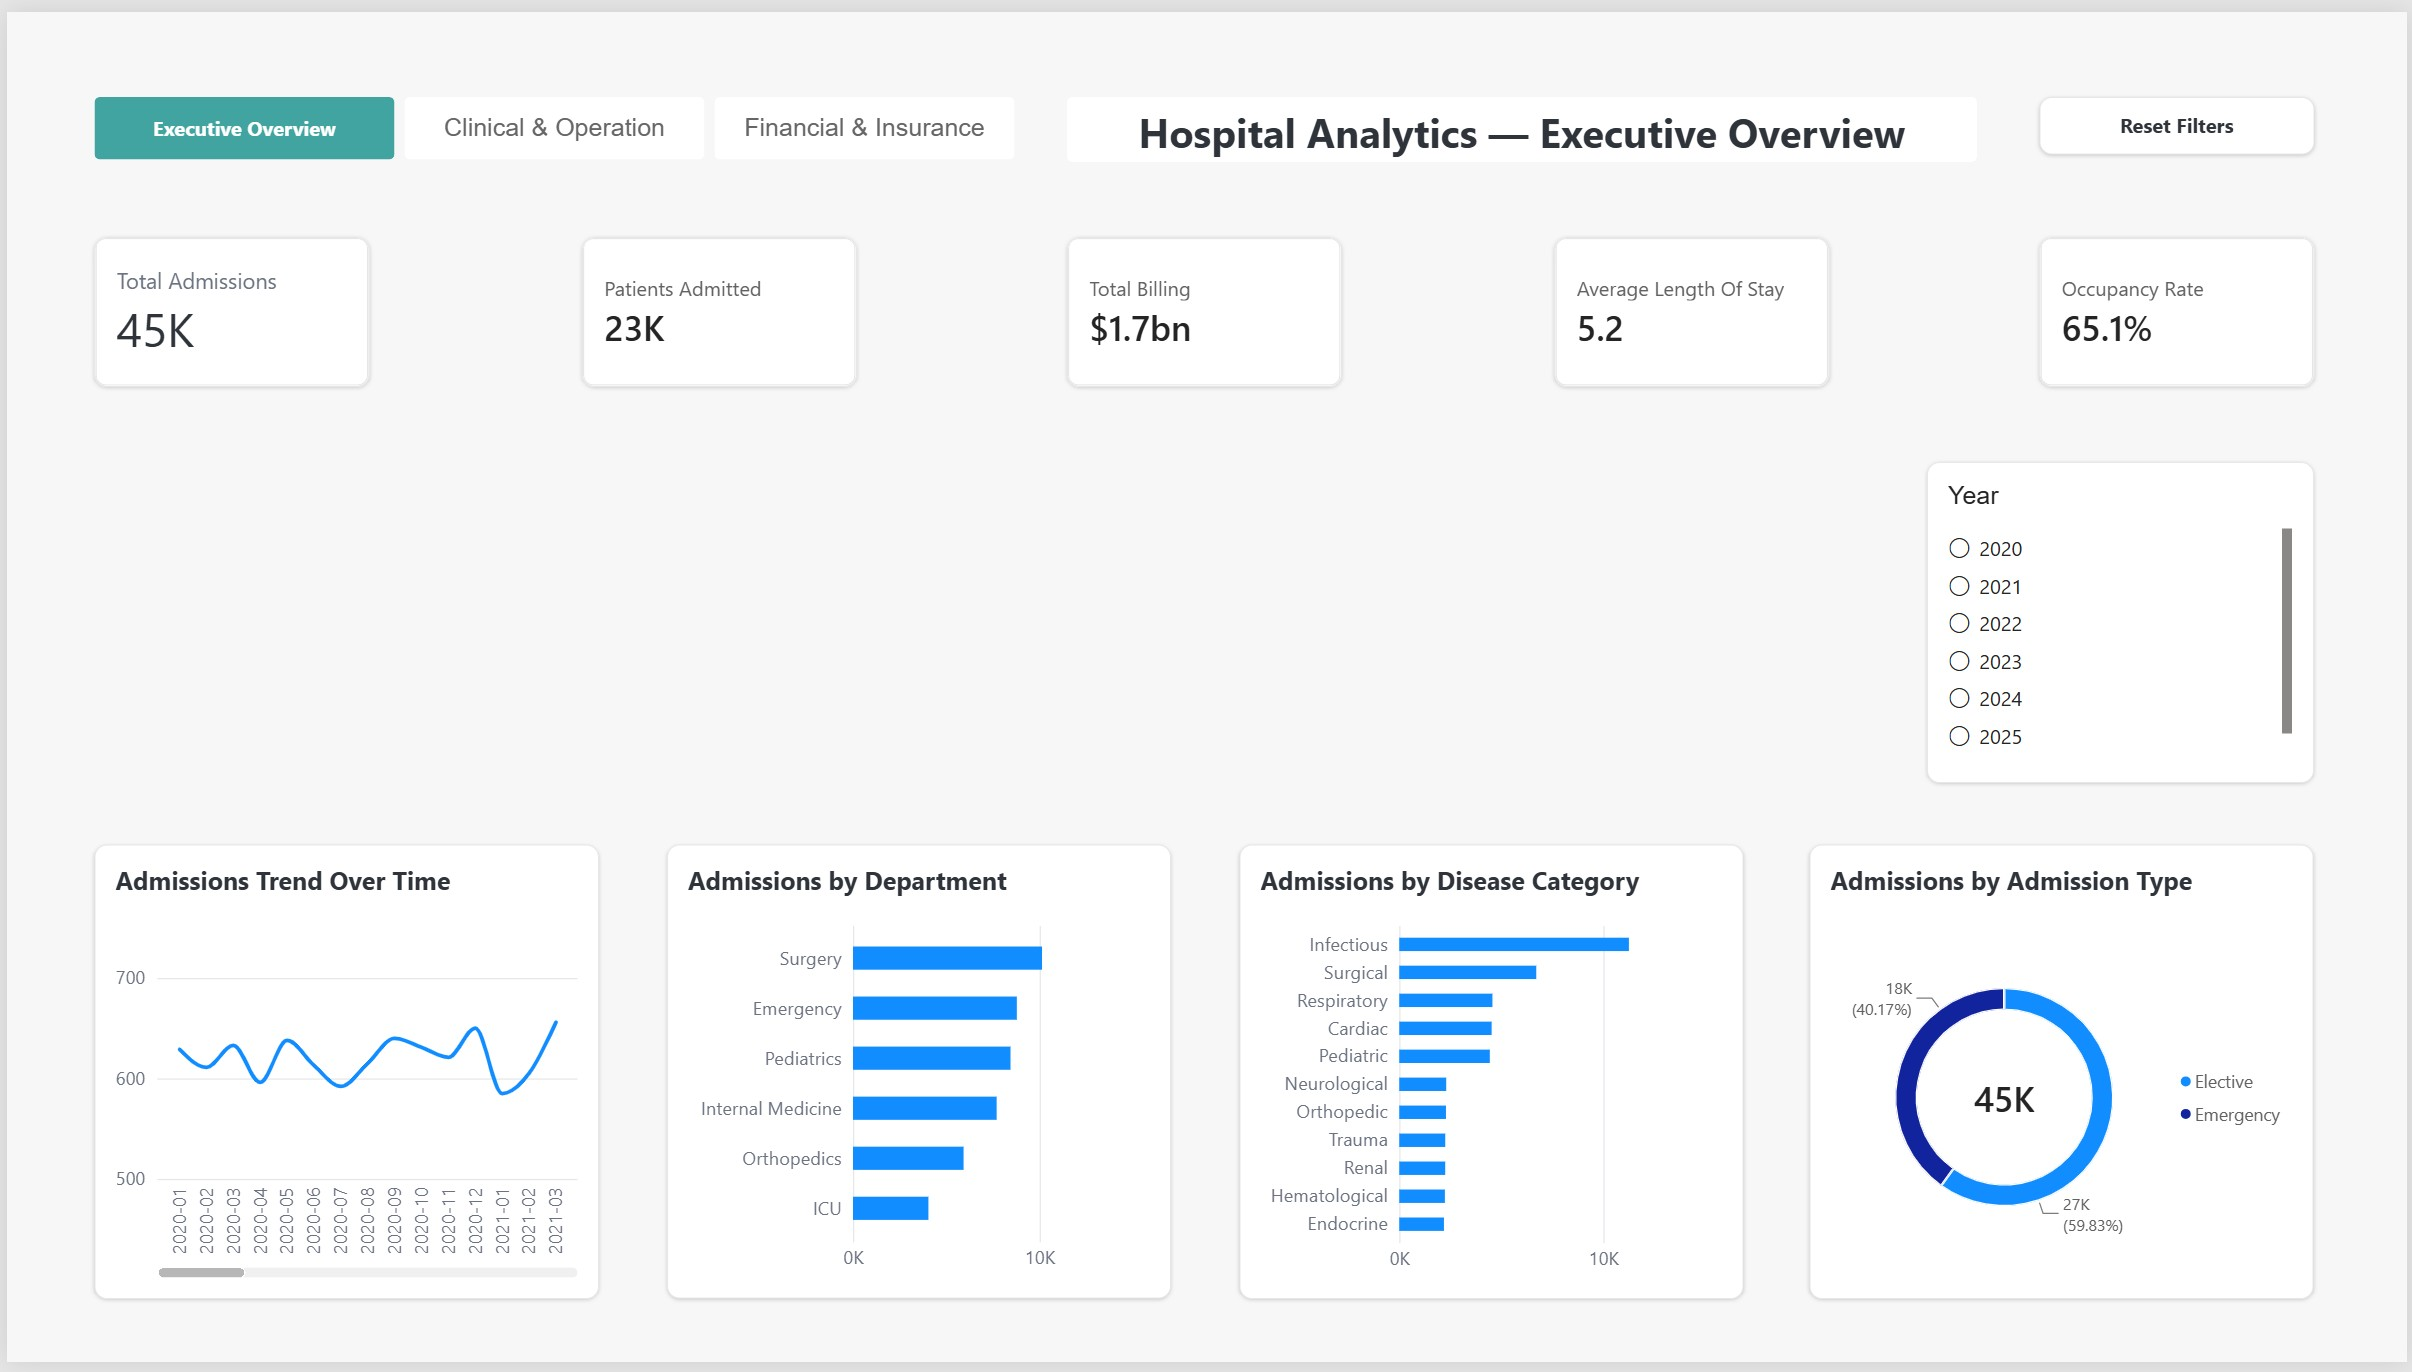

The dashboard page shown, as its layout file describes it:
{"tool":"powerbi","page":{"name":"Executive Overview","canvas":[1920,1080],"ordinal":0},"visuals":[{"type":"actionButton","box":[848,68,728,52],"z":0},{"type":"cardVisual","title":"Total Admission","fields":{"Data":["_Measures.Total_admission"]},"box":[70.6,180.9,220,120],"z":1000},{"type":"cardVisual","fields":{"Data":["_Measures.Unique_Patients"]},"box":[459.4,180.9,220,120],"z":2000},{"type":"cardVisual","fields":{"Data":["_Measures.Total_Billing"]},"box":[848.3,180.9,220,120],"z":3000},{"type":"cardVisual","fields":{"Data":["_Measures.Average_Length_Of_Stay"]},"box":[1237.1,180.9,220,120],"z":4000},{"type":"cardVisual","fields":{"Data":["_Measures.Occupancy_Rate"]},"box":[1626,180.9,220,120],"z":5000},{"type":"lineChart","title":"Admissions Trend Over Time","fields":{"Y":["_Measures.Total Admission"],"Category":["Date_Table.Year_Month"]},"box":[70.6,666,403.6,363.7],"z":6000},{"type":"clusteredBarChart","title":"Admissions by Department","fields":{"Y":["_Measures.Total Admission"],"Category":["Department.department_name"]},"box":[528.2,666,403,363],"z":7000},{"type":"clusteredBarChart","title":"Admissions by Disease Category","fields":{"Y":["_Measures.Total Admission"],"Category":["disease.disease_category"]},"box":[985.2,666,403,363.7],"z":8000},{"type":"donutChart","title":"Admissions by Admission Type","fields":{"Category":["admission.admission_type"],"Y":["_Measures.Total Admission"]},"box":[1442.3,666,403,363.7],"z":9000},{"type":"listSlicer","fields":{"Values":["Date_Table.Year"]},"box":[1536,360,309.5,257],"z":10000},{"type":"pageNavigator","box":[70.6,68.8,738.3,50.7],"z":11000},{"type":"actionButton","title":"Reset Filter","box":[1626,68,220,46],"z":12000}]}

Visuals, with their boxes in screenshot pixels (x1, y1, x2, y2), scaled from the page's 1920x1080 canvas onto the 2412x1372 screenshot:
actionButton: 1065,86,1980,152
"Total Admission" cardVisual: 89,230,365,382
cardVisual - _Measures.Unique_Patients: 577,230,853,382
cardVisual - _Measures.Total_Billing: 1066,230,1342,382
cardVisual - _Measures.Average_Length_Of_Stay: 1554,230,1830,382
cardVisual - _Measures.Occupancy_Rate: 2043,230,2319,382
"Admissions Trend Over Time" lineChart: 89,846,596,1308
"Admissions by Department" clusteredBarChart: 664,846,1170,1307
"Admissions by Disease Category" clusteredBarChart: 1238,846,1744,1308
"Admissions by Admission Type" donutChart: 1812,846,2318,1308
listSlicer - Date_Table.Year: 1930,457,2318,784
pageNavigator: 89,87,1016,152
"Reset Filter" actionButton: 2043,86,2319,145
